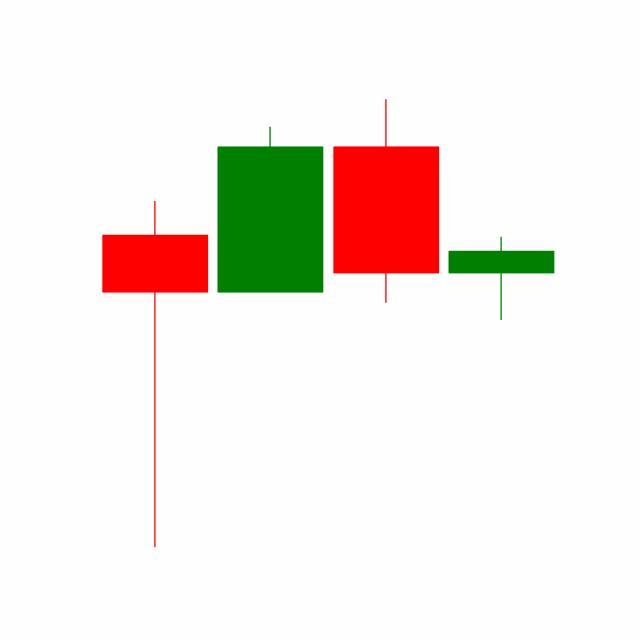Hammer: (443, 236, 559, 322)
